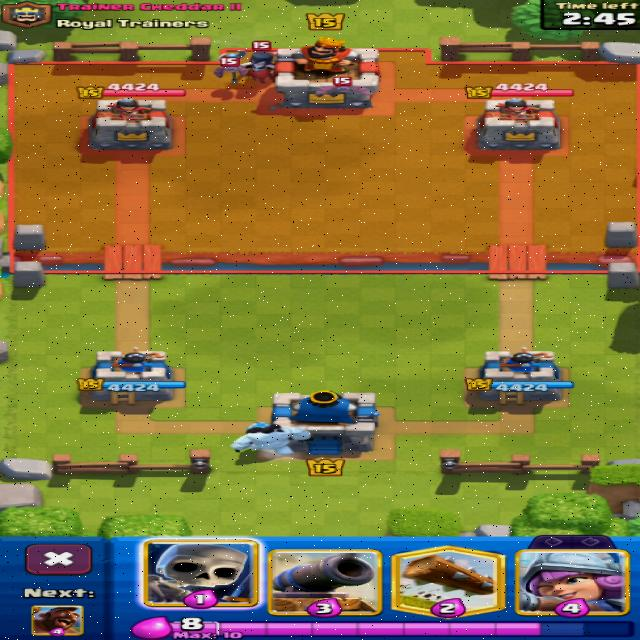Enemy-Bat: (214, 51, 247, 83), (316, 77, 370, 96)
Enemy-KingTower: (275, 37, 379, 109)
Enemy-NightWitch: (233, 42, 274, 83)
Enemy-PrincessTower: (90, 97, 170, 150), (479, 97, 559, 148)
Player-IceGolem: (231, 422, 310, 454)
Player-KingTower: (271, 391, 379, 455)
Player-PrincessTower: (77, 348, 185, 403), (467, 350, 563, 403)
